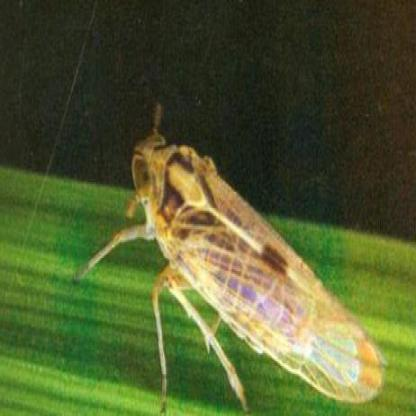brown-planthopper: (130, 127, 384, 404)
